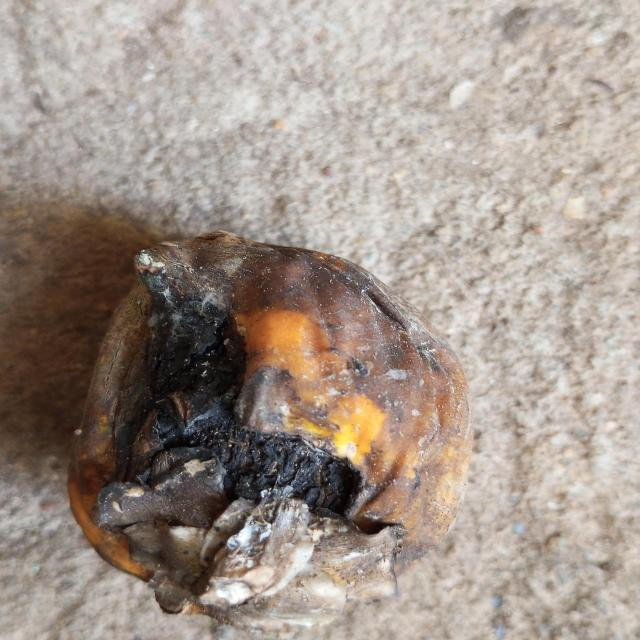damaged: (66, 231, 473, 624)
